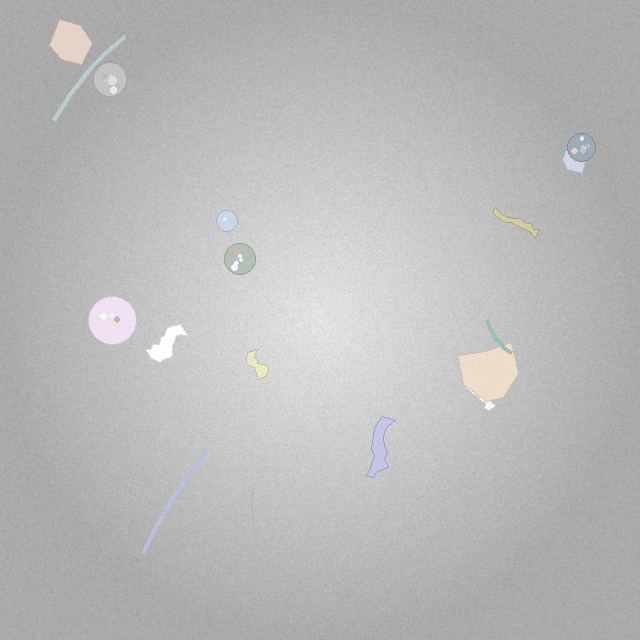fiber: (139, 445, 211, 558), (49, 33, 129, 125), (250, 489, 278, 580), (482, 315, 516, 357)
film: (365, 417, 395, 477), (145, 325, 189, 362), (492, 207, 540, 238), (463, 373, 495, 410), (246, 350, 269, 379)
foam: (88, 296, 136, 345), (93, 63, 127, 96), (225, 244, 256, 275), (567, 133, 595, 161)
fragment: (457, 343, 519, 401), (49, 20, 92, 64), (563, 143, 587, 173)
pellet: (217, 211, 237, 231)
